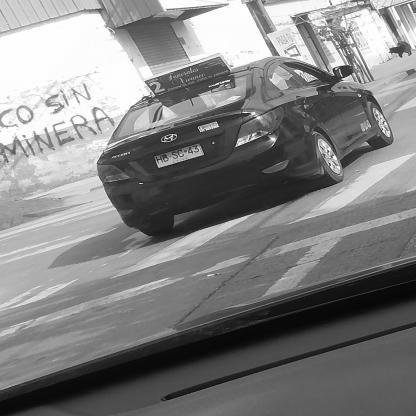Patente: (151, 141, 207, 170)
